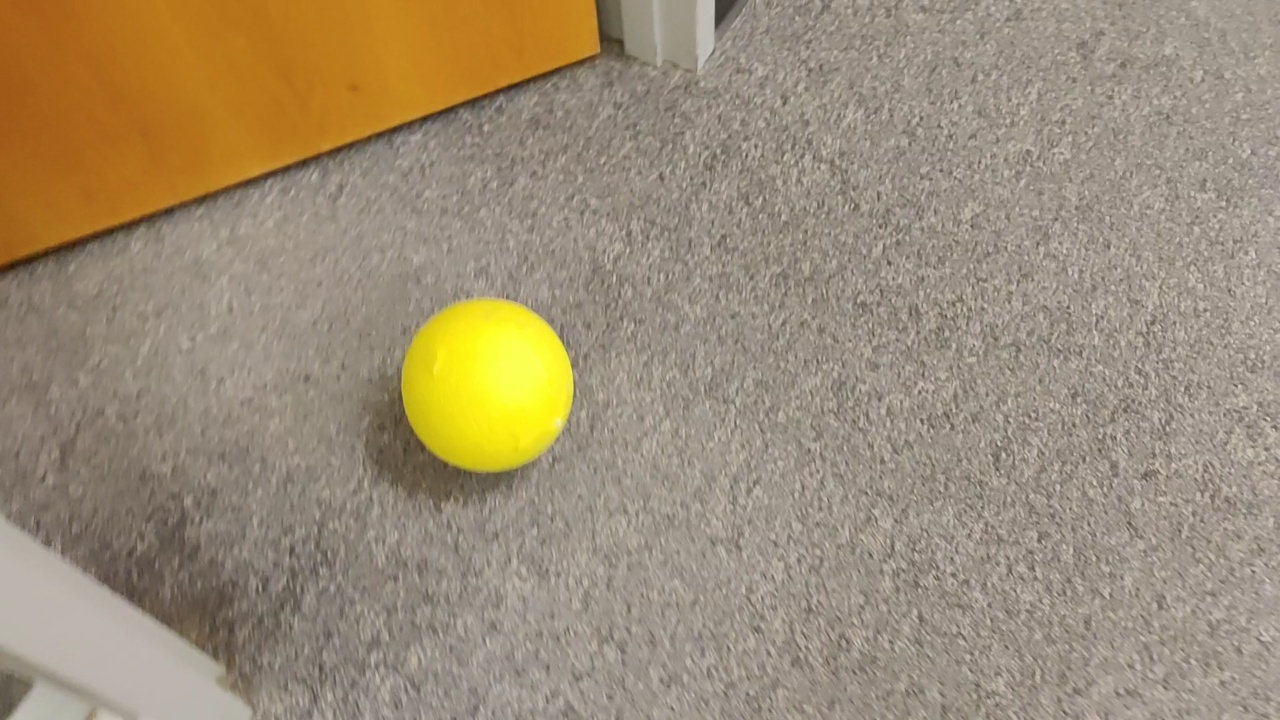Ball: (397, 294, 567, 465)
